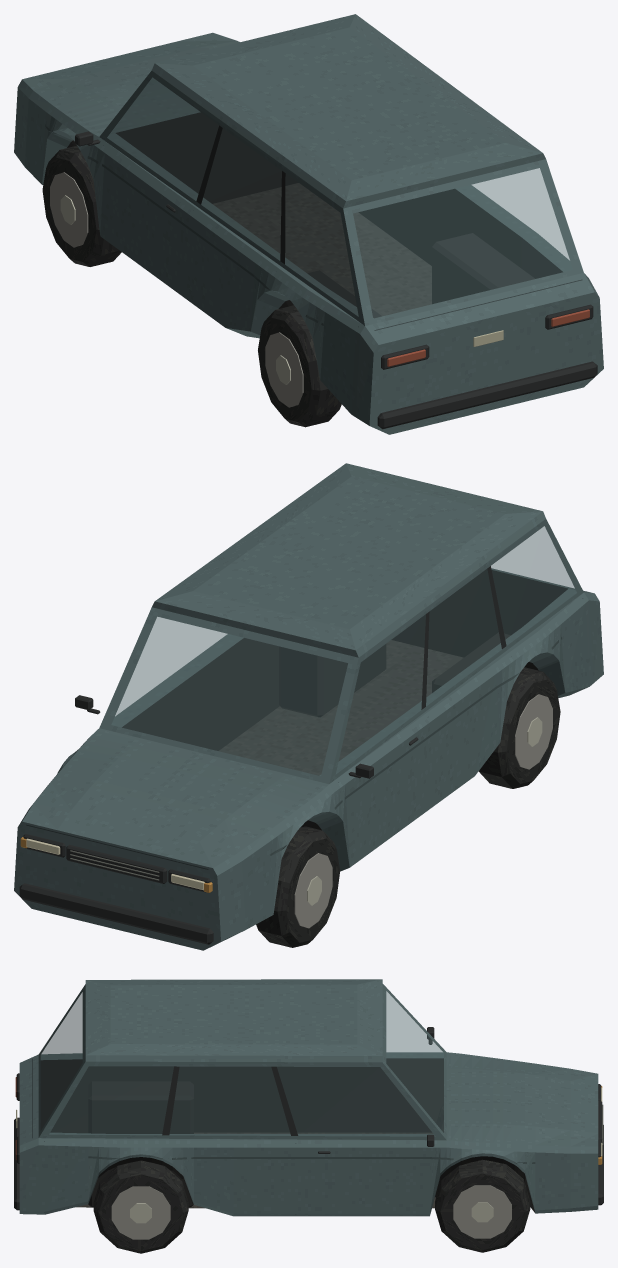
File: vehicle_suv.glb
The picture shows the model from 3 angles, top to bottom: view 1: azimuth 30°, elevation 25°; view 2: azimuth 150°, elevation 25°; view 3: azimuth 270°, elevation 25°; orthographic projection. The views are drawn at different scales.
Visible parts, largest first — view 1: closed_body, glazing, roof_body; view 2: closed_body, glazing, roof_body; view 3: closed_body, glazing, roof_body.
Part boxes in pixels (left/top/right/bottom): closed_body: left=14, top=32, right=603, bottom=434; glazing: left=107, top=77, right=572, bottom=318; roof_body: left=152, top=14, right=545, bottom=208; closed_body: left=14, top=519, right=603, bottom=950; glazing: left=111, top=526, right=576, bottom=775; roof_body: left=152, top=463, right=545, bottom=657; closed_body: left=14, top=984, right=603, bottom=1253; glazing: left=40, top=991, right=443, bottom=1136; roof_body: left=85, top=979, right=382, bottom=1062.
Size of the model in its own units: 2.25 by 1.8 by 4.96.
Materials: 2 (2 with a texture image).
